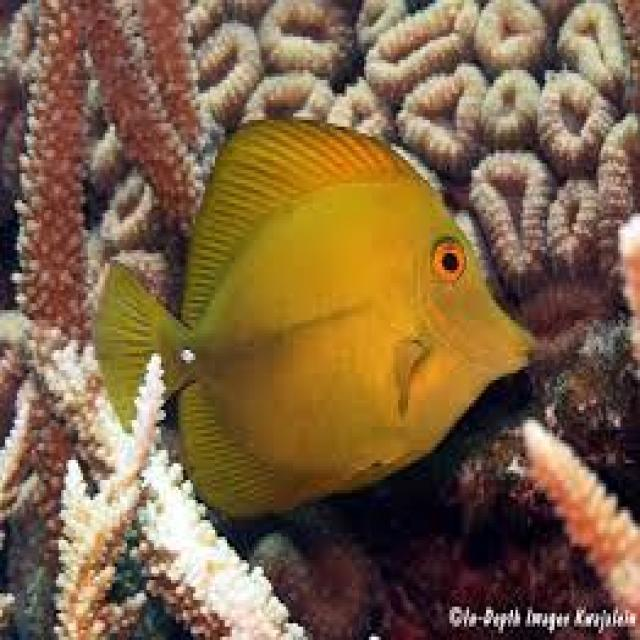YellowTang: (88, 99, 554, 526)
